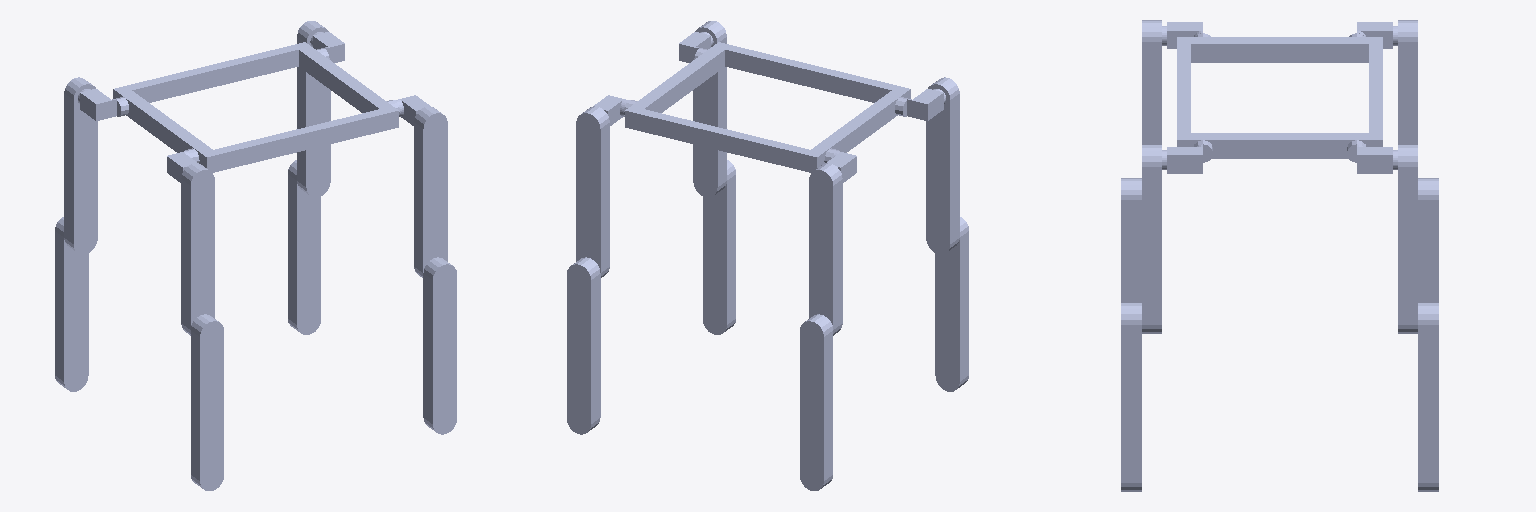
--- Render facts (derived) ---
Views: 3 orthographic renders of the robot side by side, from view 1: azimuth 30°, elevation 25°; view 2: azimuth 150°, elevation 25°; view 3: azimuth 270°, elevation 25°.
Model dynamo_skltn with 13 links and 12 joints (12 revolute), rooted at base_link, posed all joints at 0.
Links seen in each view (by area): view 1: base_link, RF3, RB3, RB2, RF2, LB2, LB3, LF3, LF2, LB1, LF1, RB1 (+1 smaller); view 2: base_link, LF3, LB3, LB2, LF2, RB2, RB3, RF3, RF2, RB1, RF1, LB1 (+1 smaller); view 3: base_link, LF3, RF3, LF2, RF2, LB3, RB3, LB2, RB2, LF1, RF1, LB1 (+1 smaller).
Boxes of the visible links, box(x1,y1,x2,y2) form: base_link: box(113, 42, 399, 172); RF3: box(423, 257, 456, 434); RB3: box(191, 314, 223, 490); RB2: box(181, 163, 214, 335); RF2: box(414, 106, 447, 277); LB2: box(64, 77, 97, 254); LB3: box(55, 217, 88, 391); LF3: box(288, 160, 320, 334); LF2: box(297, 21, 330, 197); LB1: box(78, 89, 116, 120); LF1: box(310, 32, 344, 62); RB1: box(167, 151, 196, 182); base_link: box(624, 42, 910, 172); LF3: box(567, 257, 600, 434); LB3: box(800, 314, 832, 490); LB2: box(809, 163, 842, 335); LF2: box(576, 106, 609, 277); RB2: box(926, 77, 959, 254); RB3: box(935, 217, 968, 391); RF3: box(703, 160, 735, 334); RF2: box(693, 21, 726, 197); RB1: box(907, 89, 945, 120); RF1: box(679, 32, 713, 62); LB1: box(827, 151, 856, 182); base_link: box(1177, 33, 1382, 162); LF3: box(1418, 303, 1438, 491); RF3: box(1121, 303, 1141, 491); LF2: box(1398, 145, 1417, 333); RF2: box(1142, 145, 1161, 333); LB3: box(1418, 178, 1438, 302); RB3: box(1121, 178, 1141, 302); LB2: box(1398, 20, 1417, 144); RB2: box(1142, 20, 1161, 144); LF1: box(1357, 144, 1397, 173); RF1: box(1162, 144, 1202, 173); LB1: box(1357, 22, 1397, 48).
Size in the robot's own frame: 0.317 by 0.31 by 0.3695 metres.
13 mesh visuals loaded from 13 distinct referenced files (13 binary STL).

URDF robot description (dynamo_skltn):
<?xml version="1.0" encoding="utf-8"?>
<!-- This URDF was automatically created by SolidWorks to URDF Exporter! Originally created by Stephen Brawner ([email redacted]) 
     Commit Version: 1.6.0-1-g15f4949  Build Version: 1.6.7594.29634
     For more information, please see http://wiki.ros.org/sw_urdf_exporter -->
<robot
  name="dynamo_skltn">
    <!--<link
    name="world">
      <origin
        xyz="0 0 0"
        rpy="0 0 0" />
  </link>
    <joint
    name="Joint"
    type="fixed">
    <origin
      xyz="0 0 0.355"
      rpy="0 0 0" />
    <parent
      link="world" />
    <child
      link="base_link" />
    <axis
      xyz="0 0 0" />
  </joint> -->
  <link
    name="base_link">
    <inertial>
      <origin
        xyz="6.66133814775094E-16 -1.0769163338864E-14 -0.0100000000000001"
        rpy="0 0 0" />
      <mass
        value="0.307410573676368" />
      <inertia
        ixx="0.00180218659293748"
        ixy="-5.9244660704518E-18"
        ixz="-3.37763309342311E-20"
        iyy="0.00264075287927376"
        iyz="-3.09465764048452E-20"
        izz="0.00442270513895884" />
    </inertial>
    <visual>
      <origin
        xyz="0 0 0"
        rpy="0 0 0" />
      <geometry>
        <mesh
          filename="package://dynamo_skltn/meshes/base_link.STL" />
      </geometry>
      <material
        name="">
        <color
          rgba="0.792156862745098 0.819607843137255 0.933333333333333 1" />
      </material>
    </visual>
    <collision>
      <origin
        xyz="0 0 0"
        rpy="0 0 0" />
      <geometry>
        <mesh
          filename="package://dynamo_skltn/meshes/base_link.STL" />
      </geometry>
    </collision>
  </link>
  <link
    name="LF1">
    <inertial>
      <origin
        xyz="-0.018784210212979 -1.01030295240889E-14 -0.0143997700963781"
        rpy="0 0 0" />
      <mass
        value="0.0202816811678385" />
      <inertia
        ixx="1.42596288638287E-06"
        ixy="8.08885241524575E-23"
        ixz="-1.77006138466586E-07"
        iyy="3.47408088989554E-06"
        iyz="-1.33359464788894E-22"
        izz="3.35153539523793E-06" />
    </inertial>
    <visual>
      <origin
        xyz="0 0 0"
        rpy="0 0 0" />
      <geometry>
        <mesh
          filename="package://dynamo_skltn/meshes/LF1.STL" />
      </geometry>
      <material
        name="">
        <color
          rgba="0.792156862745098 0.819607843137255 0.933333333333333 1" />
      </material>
    </visual>
    <collision>
      <origin
        xyz="0 0 0"
        rpy="0 0 0" />
      <geometry>
        <mesh
          filename="package://dynamo_skltn/meshes/LF1.STL" />
      </geometry>
    </collision>
  </link>
  <joint
    name="LFJ1"
    type="revolute">
    <origin
      xyz="0.1285 0.075 -0.01"
      rpy="1.5708 0 -1.5708" />
    <parent
      link="base_link" />
    <child
      link="LF1" />
    <axis
      xyz="0 0 1" />
    <limit
      lower="-1.57"
      upper="1.57"
      effort="50"
      velocity="2" />
    <dynamics damping="0.1" friction="0.0"/>
  </joint>
  <link
    name="LF2">
    <inertial>
      <origin
        xyz="0.0850000000000102 0 0.00999999999999998"
        rpy="0 0 0" />
      <mass
        value="0.144010087007031" />
      <inertia
        ixx="1.52724036277132E-05"
        ixy="6.68463311186397E-21"
        ixz="-4.79574330687221E-20"
        iyy="0.000456019282253513"
        iyz="-3.80708743488964E-22"
        izz="0.000461691013414091" />
    </inertial>
    <visual>
      <origin
        xyz="0 0 0"
        rpy="0 0 0" />
      <geometry>
        <mesh
          filename="package://dynamo_skltn/meshes/LF2.STL" />
      </geometry>
      <material
        name="">
        <color
          rgba="0.792156862745098 0.819607843137255 0.933333333333333 1" />
      </material>
    </visual>
    <collision>
      <origin
        xyz="0 0 0"
        rpy="0 0 0" />
      <geometry>
        <mesh
          filename="package://dynamo_skltn/meshes/LF2.STL" />
      </geometry>
    </collision>
  </link>
  <joint
    name="LFJ2"
    type="revolute">
    <origin
      xyz="-0.04 0 -0.015"
      rpy="1.5708 0 -1.5708" />
    <parent
      link="LF1" />
    <child
      link="LF2" />
    <axis
      xyz="0 0 -1" />
    <limit
      lower="-1.57"
      upper="1.57"
      effort="50"
      velocity="2" />
    <dynamics damping="0.1" friction="0.0"/>
  </joint>
  <link
    name="LF3">
    <inertial>
      <origin
        xyz="0.0850000000000101 0 0.00999999999999998"
        rpy="0 0 0" />
      <mass
        value="0.144010087007031" />
      <inertia
        ixx="1.52724036277132E-05"
        ixy="6.96869005968292E-21"
        ixz="-2.34998390655045E-20"
        iyy="0.000456019282253513"
        iyz="-4.87410026043126E-22"
        izz="0.00046169101341409" />
    </inertial>
    <visual>
      <origin
        xyz="0 0 0"
        rpy="0 0 0" />
      <geometry>
        <mesh
          filename="package://dynamo_skltn/meshes/LF3.STL" />
      </geometry>
      <material
        name="">
        <color
          rgba="0.792156862745098 0.819607843137255 0.933333333333333 1" />
      </material>
    </visual>
    <collision>
      <origin
        xyz="0 0 0"
        rpy="0 0 0" />
      <geometry>
        <mesh
          filename="package://dynamo_skltn/meshes/LF3.STL" />
      </geometry>
    </collision>
  </link>
  <joint
    name="LFJ3"
    type="revolute">
    <origin
      xyz="0.17 0 0.02"
      rpy="0 0 0" />
    <parent
      link="LF2" />
    <child
      link="LF3" />
    <axis
      xyz="0 0 -1" />
    <limit
      lower="-1.57"
      upper="2.7"
      effort="50"
      velocity="1" />
    <dynamics damping="0.1" friction="0.0"/>
  </joint>
  <link
    name="LB1">
    <inertial>
      <origin
        xyz="-0.0187842102129788 -9.99200722162641E-15 0.0143997700963782"
        rpy="0 0 0" />
      <mass
        value="0.0202816811678385" />
      <inertia
        ixx="1.42596288638287E-06"
        ixy="-1.30959961592588E-22"
        ixz="1.77006138466586E-07"
        iyy="3.47408088989554E-06"
        iyz="-1.76560837638848E-23"
        izz="3.35153539523793E-06" />
    </inertial>
    <visual>
      <origin
        xyz="0 0 0"
        rpy="0 0 0" />
      <geometry>
        <mesh
          filename="package://dynamo_skltn/meshes/LB1.STL" />
      </geometry>
      <material
        name="">
        <color
          rgba="0.792156862745098 0.819607843137255 0.933333333333333 1" />
      </material>
    </visual>
    <collision>
      <origin
        xyz="0 0 0"
        rpy="0 0 0" />
      <geometry>
        <mesh
          filename="package://dynamo_skltn/meshes/LB1.STL" />
      </geometry>
    </collision>
  </link>
  <joint
    name="LBJ1"
    type="revolute">
    <origin
      xyz="-0.1285 0.075 -0.01"
      rpy="1.5708 0 -1.5708" />
    <parent
      link="base_link" />
    <child
      link="LB1" />
    <axis
      xyz="0 0 1" />
    <limit
      lower="-1.57"
      upper="1.57"
      effort="50"
      velocity="2" />
    <dynamics damping="0.1" friction="0.0"/>
  </joint>
  <link
    name="LB2">
    <inertial>
      <origin
        xyz="0.0850000000000102 0 0.00999999999999995"
        rpy="0 0 0" />
      <mass
        value="0.144010087007031" />
      <inertia
        ixx="1.52724036277132E-05"
        ixy="-1.74229305106629E-21"
        ixz="3.85187512524854E-21"
        iyy="0.000456019282253512"
        iyz="-2.61809605891918E-22"
        izz="0.00046169101341409" />
    </inertial>
    <visual>
      <origin
        xyz="0 0 0"
        rpy="0 0 0" />
      <geometry>
        <mesh
          filename="package://dynamo_skltn/meshes/LB2.STL" />
      </geometry>
      <material
        name="">
        <color
          rgba="0.792156862745098 0.819607843137255 0.933333333333333 1" />
      </material>
    </visual>
    <collision>
      <origin
        xyz="0 0 0"
        rpy="0 0 0" />
      <geometry>
        <mesh
          filename="package://dynamo_skltn/meshes/LB2.STL" />
      </geometry>
    </collision>
  </link>
  <joint
    name="LBJ2"
    type="revolute">
    <origin
      xyz="-0.04 0 0.015"
      rpy="1.5707963267949 0 -1.5707963267949" />
    <parent
      link="LB1" />
    <child
      link="LB2" />
    <axis
      xyz="0 0 -1" />
    <limit
      lower="-1.57"
      upper="1.57"
      effort="50"
      velocity="2" />
    <dynamics damping="0.1" friction="0.0"/>
  </joint>
  <link
    name="LB3">
    <inertial>
      <origin
        xyz="0.0850000000000102 1.38777878078145E-17 0.01"
        rpy="0 0 0" />
      <mass
        value="0.144010087007031" />
      <inertia
        ixx="1.52724036277132E-05"
        ixy="-4.89227988199986E-21"
        ixz="-5.96947954866902E-21"
        iyy="0.000456019282253512"
        iyz="4.54227014519487E-23"
        izz="0.00046169101341409" />
    </inertial>
    <visual>
      <origin
        xyz="0 0 0"
        rpy="0 0 0" />
      <geometry>
        <mesh
          filename="package://dynamo_skltn/meshes/LB3.STL" />
      </geometry>
      <material
        name="">
        <color
          rgba="0.792156862745098 0.819607843137255 0.933333333333333 1" />
      </material>
    </visual>
    <collision>
      <origin
        xyz="0 0 0"
        rpy="0 0 0" />
      <geometry>
        <mesh
          filename="package://dynamo_skltn/meshes/LB3.STL" />
      </geometry>
    </collision>
  </link>
  <joint
    name="LBJ3"
    type="revolute">
    <origin
      xyz="0.17 0 0.02"
      rpy="0 0 0" />
    <parent
      link="LB2" />
    <child
      link="LB3" />
    <axis
      xyz="0 0 -1" />
    <limit
      lower="-1.57"
      upper="2.7"
      effort="50"
      velocity="2" />
    <dynamics damping="0.1" friction="0.0"/>
  </joint>
  <link
    name="RF1">
    <inertial>
      <origin
        xyz="-0.0187842102129793 1.11022302462516E-16 0.0143997700963782"
        rpy="0 0 0" />
      <mass
        value="0.0202816811678385" />
      <inertia
        ixx="1.42596288638287E-06"
        ixy="3.59859445033248E-22"
        ixz="1.77006138466586E-07"
        iyy="3.47408088989553E-06"
        iyz="-1.48906330019362E-22"
        izz="3.35153539523792E-06" />
    </inertial>
    <visual>
      <origin
        xyz="0 0 0"
        rpy="0 0 0" />
      <geometry>
        <mesh
          filename="package://dynamo_skltn/meshes/RF1.STL" />
      </geometry>
      <material
        name="">
        <color
          rgba="0.792156862745098 0.819607843137255 0.933333333333333 1" />
      </material>
    </visual>
    <collision>
      <origin
        xyz="0 0 0"
        rpy="0 0 0" />
      <geometry>
        <mesh
          filename="package://dynamo_skltn/meshes/RF1.STL" />
      </geometry>
    </collision>
  </link>
  <joint
    name="RFJ1"
    type="revolute">
    <origin
      xyz="0.1285 -0.075 -0.01"
      rpy="1.5708 0 1.5708" />
    <parent
      link="base_link" />
    <child
      link="RF1" />
    <axis
      xyz="0 0 1" />
    <limit
      lower="-1.57"
      upper="1.57"
      effort="50"
      velocity="2" />
    <dynamics damping="0.1" friction="0.0"/>
  </joint>
  <link
    name="RF2">
    <inertial>
      <origin
        xyz="0.085 0 0.01"
        rpy="0 0 0" />
      <mass
        value="0.144010087007031" />
      <inertia
        ixx="1.52724036277132E-05"
        ixy="-1.10656038486338E-20"
        ixz="3.76166718240562E-20"
        iyy="0.000456019282253512"
        iyz="-1.17287133715646E-22"
        izz="0.00046169101341409" />
    </inertial>
    <visual>
      <origin
        xyz="0 0 0"
        rpy="0 0 0" />
      <geometry>
        <mesh
          filename="package://dynamo_skltn/meshes/RF2.STL" />
      </geometry>
      <material
        name="">
        <color
          rgba="0.792156862745098 0.819607843137255 0.933333333333333 1" />
      </material>
    </visual>
    <collision>
      <origin
        xyz="0 0 0"
        rpy="0 0 0" />
      <geometry>
        <mesh
          filename="package://dynamo_skltn/meshes/RF2.STL" />
      </geometry>
    </collision>
  </link>
  <joint
    name="RFJ2"
    type="revolute">
    <origin
      xyz="-0.04 0 0.0149999999999998"
      rpy="1.5707963267949 0 -1.5707963267949" />
    <parent
      link="RF1" />
    <child
      link="RF2" />
    <axis
      xyz="0 0 1" />
    <limit
      lower="-1.57"
      upper="1.57"
      effort="50"
      velocity="2" />
    <dynamics damping="0.1" friction="0.0"/>
  </joint>
  <link
    name="RF3">
    <inertial>
      <origin
        xyz="0.085 5.55111512312578E-17 0.01"
        rpy="0 0 0" />
      <mass
        value="0.144010087007031" />
      <inertia
        ixx="1.52724036277132E-05"
        ixy="-1.49048345626674E-19"
        ixz="4.58508014330682E-21"
        iyy="0.000456019282253513"
        iyz="-3.37763465288728E-22"
        izz="0.000461691013414091" />
    </inertial>
    <visual>
      <origin
        xyz="0 0 0"
        rpy="0 0 0" />
      <geometry>
        <mesh
          filename="package://dynamo_skltn/meshes/RF3.STL" />
      </geometry>
      <material
        name="">
        <color
          rgba="0.792156862745098 0.819607843137255 0.933333333333333 1" />
      </material>
    </visual>
    <collision>
      <origin
        xyz="0 0 0"
        rpy="0 0 0" />
      <geometry>
        <mesh
          filename="package://dynamo_skltn/meshes/RF3.STL" />
      </geometry>
    </collision>
  </link>
  <joint
    name="RFJ3"
    type="revolute">
    <origin
      xyz="0.17 0 0.0200000000000002"
      rpy="0 0 0" />
    <parent
      link="RF2" />
    <child
      link="RF3" />
    <axis
      xyz="0 0 1" />
    <limit
      lower="-1.57"
      upper="2.7"
      effort="50"
      velocity="2" />
    <dynamics damping="0.1" friction="0.0"/>
  </joint>
  <link
    name="RB1">
    <inertial>
      <origin
        xyz="-0.018784210212979 0 -0.0143997700963782"
        rpy="0 0 0" />
      <mass
        value="0.0202816811678385" />
      <inertia
        ixx="1.42596288638287E-06"
        ixy="4.46967372118645E-23"
        ixz="-1.77006138466586E-07"
        iyy="3.47408088989554E-06"
        iyz="-1.28185631777766E-22"
        izz="3.35153539523793E-06" />
    </inertial>
    <visual>
      <origin
        xyz="0 0 0"
        rpy="0 0 0" />
      <geometry>
        <mesh
          filename="package://dynamo_skltn/meshes/RB1.STL" />
      </geometry>
      <material
        name="">
        <color
          rgba="0.792156862745098 0.819607843137255 0.933333333333333 1" />
      </material>
    </visual>
    <collision>
      <origin
        xyz="0 0 0"
        rpy="0 0 0" />
      <geometry>
        <mesh
          filename="package://dynamo_skltn/meshes/RB1.STL" />
      </geometry>
    </collision>
  </link>
  <joint
    name="RBJ1"
    type="revolute">
    <origin
      xyz="-0.128500000000002 -0.074999999999994 -0.00999999999997347"
      rpy="1.5707963267949 0 1.5707963267949" />
    <parent
      link="base_link" />
    <child
      link="RB1" />
    <axis
      xyz="0 0 1" />
    <limit
      lower="-1.57"
      upper="1.57"
      effort="50"
      velocity="2" />
    <dynamics damping="0.1" friction="0.0"/>
  </joint>
  <link
    name="RB2">
    <inertial>
      <origin
        xyz="0.085 -6.93889390390723E-17 0.01"
        rpy="0 0 0" />
      <mass
        value="0.144010087007031" />
      <inertia
        ixx="1.52724036277132E-05"
        ixy="-1.03552966848308E-19"
        ixz="3.14317062750219E-21"
        iyy="0.000456019282253513"
        iyz="-1.68012162689126E-22"
        izz="0.000461691013414091" />
    </inertial>
    <visual>
      <origin
        xyz="0 0 0"
        rpy="0 0 0" />
      <geometry>
        <mesh
          filename="package://dynamo_skltn/meshes/RB2.STL" />
      </geometry>
      <material
        name="">
        <color
          rgba="0.792156862745098 0.819607843137255 0.933333333333333 1" />
      </material>
    </visual>
    <collision>
      <origin
        xyz="0 0 0"
        rpy="0 0 0" />
      <geometry>
        <mesh
          filename="package://dynamo_skltn/meshes/RB2.STL" />
      </geometry>
    </collision>
  </link>
  <joint
    name="RBJ2"
    type="revolute">
    <origin
      xyz="-0.04 0 -0.0149999999999999"
      rpy="1.5707963267949 0 -1.5707963267949" />
    <parent
      link="RB1" />
    <child
      link="RB2" />
    <axis
      xyz="0 0 1" />
    <limit
      lower="-1.57"
      upper="1.57"
      effort="50"
      velocity="2" />
    <dynamics damping="0.1" friction="0.0"/>
  </joint>
  <link
    name="RB3">
    <inertial>
      <origin
        xyz="0.085 0 0.0099999999999999"
        rpy="0 0 0" />
      <mass
        value="0.144010087007031" />
      <inertia
        ixx="1.52724036277132E-05"
        ixy="2.49794660925494E-20"
        ixz="6.17015260641853E-20"
        iyy="0.000456019282253512"
        iyz="-5.50090825610768E-22"
        izz="0.00046169101341409" />
    </inertial>
    <visual>
      <origin
        xyz="0 0 0"
        rpy="0 0 0" />
      <geometry>
        <mesh
          filename="package://dynamo_skltn/meshes/RB3.STL" />
      </geometry>
      <material
        name="">
        <color
          rgba="0.792156862745098 0.819607843137255 0.933333333333333 1" />
      </material>
    </visual>
    <collision>
      <origin
        xyz="0 0 0"
        rpy="0 0 0" />
      <geometry>
        <mesh
          filename="package://dynamo_skltn/meshes/RB3.STL" />
      </geometry>
    </collision>
  </link>
  <joint
    name="RBJ3"
    type="revolute">
    <origin
      xyz="0.17 0 0.0200000000000002"
      rpy="0 0 0" />
    <parent
      link="RB2" />
    <child
      link="RB3" />
    <axis
      xyz="0 0 1" />
    <limit
      lower="-1.57"
      upper="2.7"
      effort="50"
      velocity="2" />
    <dynamics damping="0.1" friction="0.0"/>
  </joint>

  <gazebo>
  <plugin name="gazebo_ros_control" filename="libgazebo_ros_control.so">
    <robotNamespace>/dynamo</robotNamespace>
    <robotSimType>gazebo_ros_control/DefaultRobotHWSim</robotSimType>
  </plugin>
  </gazebo>

  <transmission name="tran1">
    <type>transmission_interface/SimpleTransmission</type>
    <actuator name="motor1">
      <mechanicalReduction>1</mechanicalReduction>
      <hardwareInterface>EffortJointInterface</hardwareInterface>
    </actuator>
    <joint name="LFJ1">
      <hardwareInterface>EffortJointInterface</hardwareInterface>
    </joint>
  </transmission>
  <transmission name="tran2">
    <type>transmission_interface/SimpleTransmission</type>
    <actuator name="motor2">
      <hardwareInterface>EffortJointInterface</hardwareInterface>
      <mechanicalReduction>1</mechanicalReduction>
    </actuator>
    <joint name="LFJ2">
      <hardwareInterface>EffortJointInterface</hardwareInterface>
    </joint>
  </transmission>
    <transmission name="tran3">
    <type>transmission_interface/SimpleTransmission</type>
    <actuator name="motor3">
      <hardwareInterface>EffortJointInterface</hardwareInterface>
      <mechanicalReduction>1</mechanicalReduction>
    </actuator>
    <joint name="LFJ3">
      <hardwareInterface>EffortJointInterface</hardwareInterface>
    </joint>
  </transmission>
    <transmission name="tran4">
    <type>transmission_interface/SimpleTransmission</type>
    <actuator name="motor4">
      <hardwareInterface>EffortJointInterface</hardwareInterface>
      <mechanicalReduction>1</mechanicalReduction>
    </actuator>
    <joint name="LBJ1">
      <hardwareInterface>EffortJointInterface</hardwareInterface>
    </joint>
  </transmission>
    <transmission name="tran5">
    <type>transmission_interface/SimpleTransmission</type>
    <actuator name="motor5">
      <hardwareInterface>EffortJointInterface</hardwareInterface>
      <mechanicalReduction>1</mechanicalReduction>
    </actuator>
    <joint name="LBJ2">
      <hardwareInterface>EffortJointInterface</hardwareInterface>
    </joint>
  </transmission>
    <transmission name="tran6">
    <type>transmission_interface/SimpleTransmission</type>
    <actuator name="motor6">
      <hardwareInterface>EffortJointInterface</hardwareInterface>
      <mechanicalReduction>1</mechanicalReduction>
    </actuator>
    <joint name="LBJ3">
      <hardwareInterface>EffortJointInterface</hardwareInterface>
    </joint>
  </transmission>
    <transmission name="tran7">
    <type>transmission_interface/SimpleTransmission</type>
    <actuator name="motor7">
      <hardwareInterface>EffortJointInterface</hardwareInterface>
      <mechanicalReduction>1</mechanicalReduction>
    </actuator>
    <joint name="RFJ1">
      <hardwareInterface>EffortJointInterface</hardwareInterface>
    </joint>
  </transmission>
    <transmission name="tran8">
    <type>transmission_interface/SimpleTransmission</type>
    <actuator name="motor8">
      <hardwareInterface>EffortJointInterface</hardwareInterface>
      <mechanicalReduction>1</mechanicalReduction>
    </actuator>
    <joint name="RFJ2">
      <hardwareInterface>EffortJointInterface</hardwareInterface>
    </joint>
  </transmission>
    <transmission name="tran9">
    <type>transmission_interface/SimpleTransmission</type>
    <actuator name="motor9">
      <hardwareInterface>EffortJointInterface</hardwareInterface>
      <mechanicalReduction>1</mechanicalReduction>
    </actuator>
    <joint name="RFJ3">
      <hardwareInterface>EffortJointInterface</hardwareInterface>
    </joint>
  </transmission>
    <transmission name="tran10">
    <type>transmission_interface/SimpleTransmission</type>
    <actuator name="motor10">
      <hardwareInterface>EffortJointInterface</hardwareInterface>
      <mechanicalReduction>1</mechanicalReduction>
    </actuator>
    <joint name="RBJ1">
      <hardwareInterface>EffortJointInterface</hardwareInterface>
    </joint>
  </transmission>
    <transmission name="tran11">
    <type>transmission_interface/SimpleTransmission</type>
    <actuator name="motor11">
      <hardwareInterface>EffortJointInterface</hardwareInterface>
      <mechanicalReduction>1</mechanicalReduction>
    </actuator>
    <joint name="RBJ2">
      <hardwareInterface>EffortJointInterface</hardwareInterface>
    </joint>
  </transmission>
    <transmission name="tran12">
    <type>transmission_interface/SimpleTransmission</type>
    <actuator name="motor12">
      <hardwareInterface>EffortJointInterface</hardwareInterface>
      <mechanicalReduction>1</mechanicalReduction>
    </actuator>
    <joint name="RBJ3">
      <hardwareInterface>EffortJointInterface</hardwareInterface>
    </joint>
  </transmission>
  
  <gazebo reference="base_link">
      <mu1>0.2</mu1>
      <mu2>0.2</mu2>
      <material>Gazebo/Grey</material>
      <selfCollide>false</selfCollide>
  </gazebo>
  
  <gazebo reference="LF1">
      <mu1>0.2</mu1>
      <mu2>0.2</mu2>
      <material>Gazebo/Grey</material>
      <selfCollide>false</selfCollide>
  </gazebo>
    <gazebo reference="LF2">
      <mu1>0.2</mu1>
      <mu2>0.2</mu2>
      <material>Gazebo/Grey</material>
      <selfCollide>false</selfCollide>
  </gazebo>
    <gazebo reference="LF3">
    <kp>100000000.0</kp>
    <kd>1.0</kd>
    <mu1>9000000</mu1>
    <mu2>9000000</mu2>
    <!--<maxContacts>30</maxContacts>-->
    <fdir1>1 1 0</fdir1>
    <maxVel>1.0</maxVel>
    <minDepth>0.001</minDepth>
    <material>Gazebo/Blue</material>
  </gazebo>
  
  <gazebo reference="LB1">
      <mu1>0.2</mu1>
      <mu2>0.2</mu2>
      <material>Gazebo/Grey</material>
      <selfCollide>false</selfCollide>
  </gazebo>
    <gazebo reference="LB2">
      <mu1>0.2</mu1>
      <mu2>0.2</mu2>
      <material>Gazebo/Grey</material>
      <selfCollide>false</selfCollide>
  </gazebo>
    <gazebo reference="LB3">
    <kp>100000000.0</kp>
    <kd>1.0</kd>
    <mu1>9000000</mu1>
    <mu2>9000000</mu2>
    <!--<maxContacts>30</maxContacts>-->
    <fdir1>1 1 0</fdir1>
    <maxVel>1.0</maxVel>
    <minDepth>0.001</minDepth>
    <material>Gazebo/Blue</material>
  </gazebo>

  <gazebo reference="RF1">
      <mu1>0.2</mu1>
      <mu2>0.2</mu2>
      <material>Gazebo/Grey</material>
      <selfCollide>false</selfCollide>
  </gazebo>
    <gazebo reference="RF2">
      <mu1>0.2</mu1>
      <mu2>0.2</mu2>
      <material>Gazebo/Grey</material>
      <selfCollide>false</selfCollide>
  </gazebo>
    <gazebo reference="RF3">
    <kp>100000000.0</kp>
    <kd>1.0</kd>
    <mu1>9000000</mu1>
    <mu2>9000000</mu2>
    <!--<maxContacts>30</maxContacts>-->
    <fdir1>1 1 0</fdir1>
    <maxVel>1.0</maxVel>
    <minDepth>0.001</minDepth>
    <material>Gazebo/Blue</material>
  </gazebo>

  <gazebo reference="RB1">
      <mu1>0.2</mu1>
      <mu2>0.2</mu2>
      <material>Gazebo/Grey</material>
      <selfCollide>false</selfCollide>
  </gazebo>
    <gazebo reference="RB2">
      <mu1>0.2</mu1>
      <mu2>0.2</mu2>
      <material>Gazebo/Grey</material>
      <selfCollide>false</selfCollide>
  </gazebo>
    <gazebo reference="RB3">
    <kp>100000000.0</kp>
    <kd>1.0</kd>
    <mu1>9000000</mu1>
    <mu2>9000000</mu2>
    <!--<maxContacts>30</maxContacts>-->
    <fdir1>1 1 0</fdir1>
    <maxVel>1.0</maxVel>
    <minDepth>0.001</minDepth>
    <material>Gazebo/Blue</material>
  </gazebo>
</robot>
